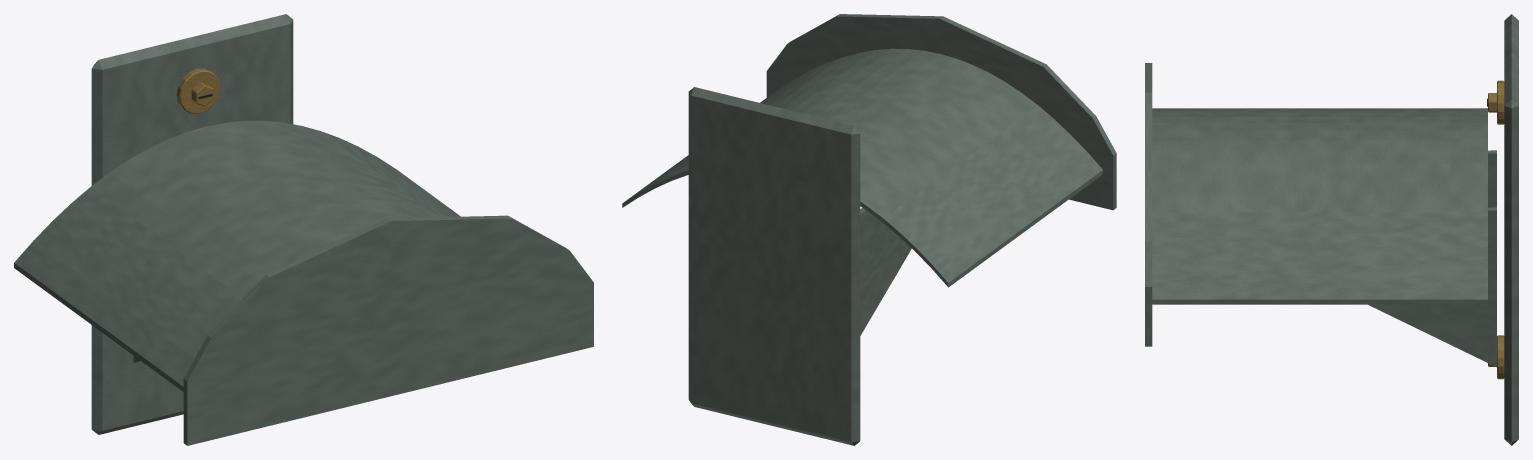
Rendered from hose_bracket.glb.
The picture shows the model from 3 angles, left to right: view 1: azimuth 30°, elevation 25°; view 2: azimuth 150°, elevation 25°; view 3: azimuth 270°, elevation 25°; orthographic projection. The views are drawn at different scales.
Visible parts, largest first — view 1: hose_bracket; view 2: hose_bracket; view 3: hose_bracket.
Boxes of the visible parts, x1=… form: hose_bracket: x1=14, y1=14, x2=593, y2=445; hose_bracket: x1=622, y1=14, x2=1116, y2=445; hose_bracket: x1=1145, y1=14, x2=1518, y2=445.
Size of the model in its own units: 0.238 by 0.21 by 0.205.
Materials: 1 (1 with a texture image).
